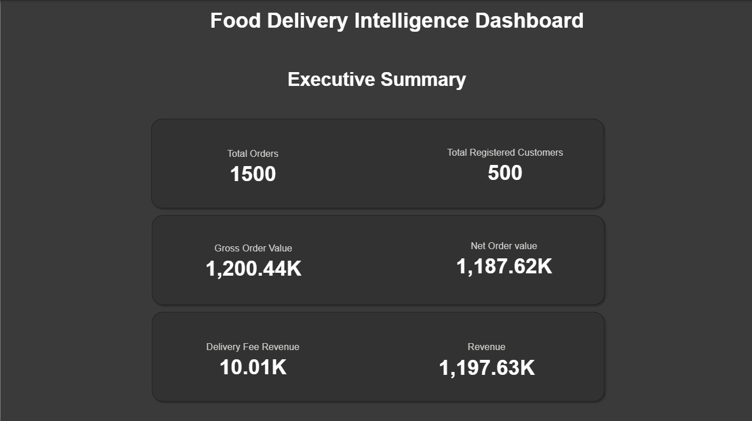

The page's visual inventory and layout, read from the dashboard file:
{"tool":"powerbi","page":{"name":"Executive Summary","canvas":[1920,1080],"ordinal":0},"visuals":[{"type":"group","id":"g1","title":"background","box":[375.5,292.6,1174.2,739.9],"z":0},{"type":"shape","box":[375.5,292.6,1172.4,246.6],"z":0,"group":"g1"},{"type":"cardVisual","fields":{"Data":["_Measures.Total Orders"]},"box":[504.3,342.3,279.8,167.5],"z":1000},{"type":"shape","box":[377.3,785.9,1172.4,246.6],"z":1000,"group":"g1"},{"type":"shape","box":[377.3,539.2,1172.4,246.6],"z":2000,"group":"g1"},{"type":"cardVisual","fields":{"Data":["_Measures.Revenue"]},"box":[1054.6,850.3,371.8,141.7],"z":2000},{"type":"cardVisual","fields":{"Data":["_Measures.Delivery Fee Revenue"]},"box":[504.3,841.1,279.8,158.3],"z":3000},{"type":"cardVisual","fields":{"Data":["_Measures.Net Order value"]},"box":[1109.8,592.6,349.7,139.9],"z":4000},{"type":"cardVisual","fields":{"Data":["_Measures.Gross Order Value"]},"box":[434.4,598.2,421.5,141.7],"z":5000},{"type":"cardVisual","fields":{"Data":["_Measures.Total Registered Customers"]},"box":[1115.3,342.3,344.2,163.8],"z":6000},{"type":"textbox","box":[0,0,1919.6,265],"z":8000}]}

Visuals, with their boxes in screenshot pixels (x1, y1, x2, y2), scaled from the page's 1920x1080 canvas onto the 752x421 screenshot:
"background" group: crop(147, 114, 607, 402)
shape: crop(147, 114, 606, 210)
cardVisual - _Measures.Total Orders: crop(198, 133, 307, 199)
shape: crop(148, 306, 607, 402)
shape: crop(148, 210, 607, 306)
cardVisual - _Measures.Revenue: crop(413, 331, 559, 387)
cardVisual - _Measures.Delivery Fee Revenue: crop(198, 328, 307, 390)
cardVisual - _Measures.Net Order value: crop(435, 231, 572, 286)
cardVisual - _Measures.Gross Order Value: crop(170, 233, 335, 288)
cardVisual - _Measures.Total Registered Customers: crop(437, 133, 572, 197)
textbox: crop(0, 0, 751, 103)
